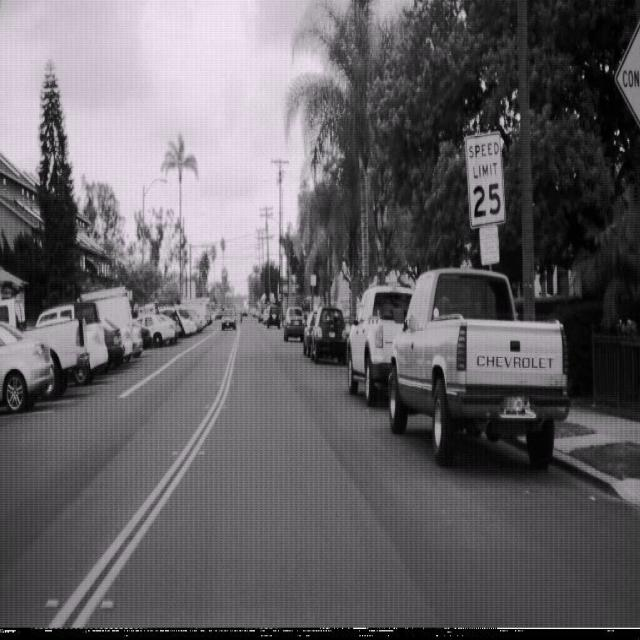speedLimit25: (464, 130, 506, 228)
